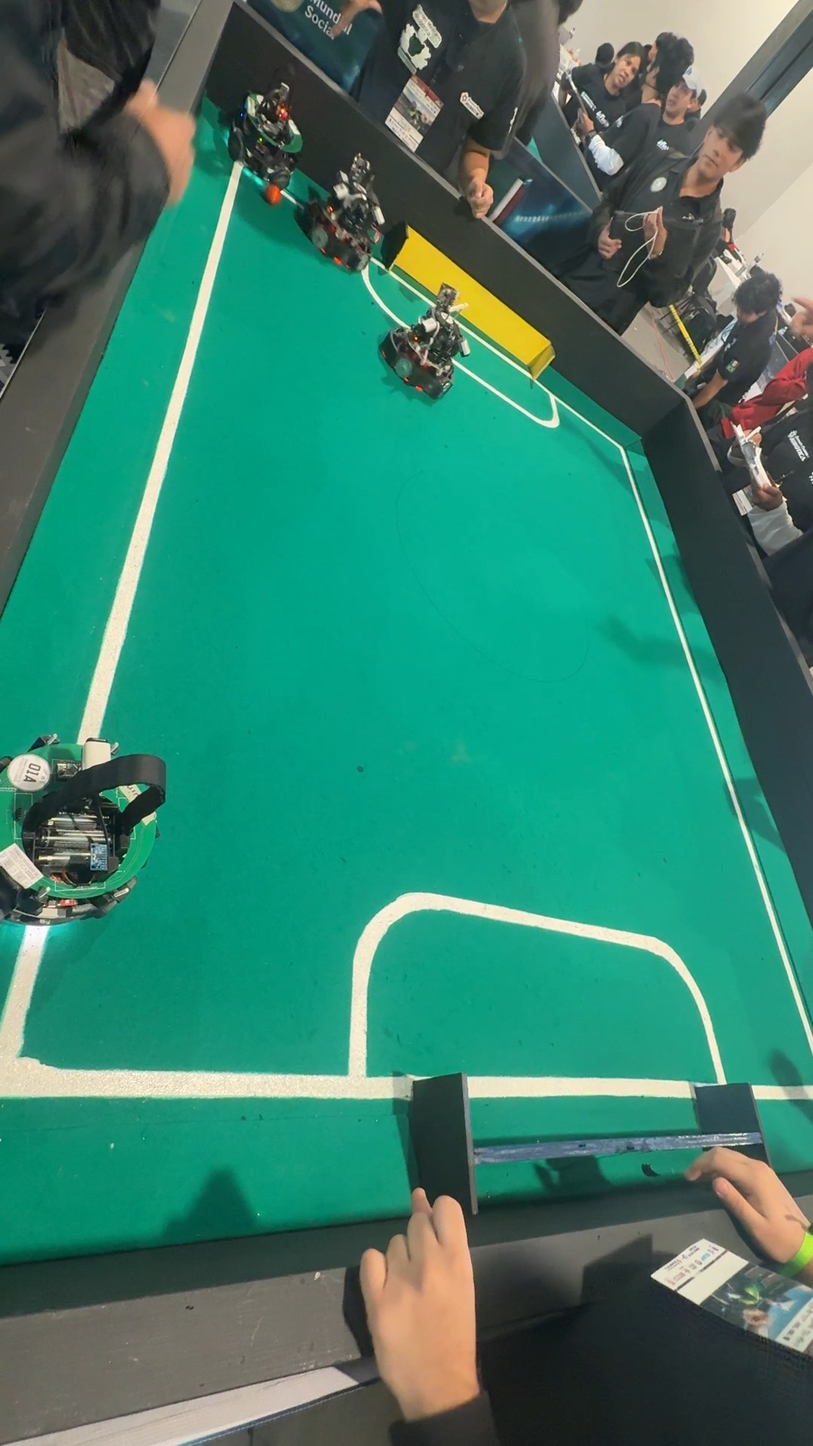Robot: (0, 709, 176, 941), (373, 278, 474, 412), (293, 146, 390, 282), (226, 69, 310, 206)
